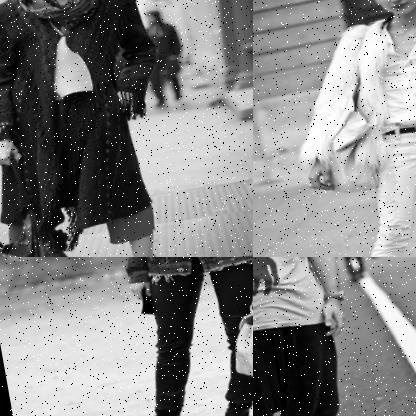pants: (0, 82, 158, 257), (129, 257, 253, 416), (340, 114, 416, 257), (253, 315, 353, 416)
polar: (0, 0, 186, 241), (278, 0, 416, 195)
shirt: (253, 257, 368, 349)
